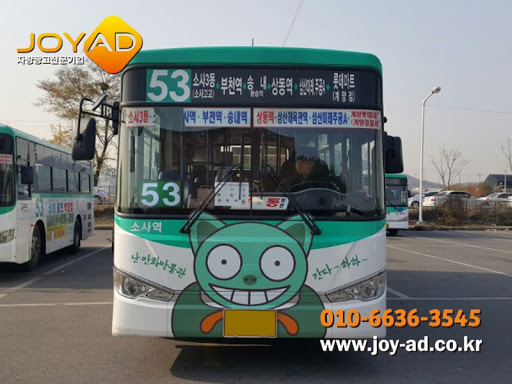bnum: (147, 67, 190, 101)
